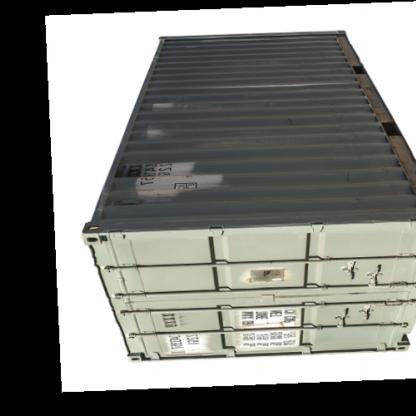Damage: (129, 153, 218, 203), (244, 260, 296, 296), (148, 93, 180, 118), (135, 123, 161, 143), (338, 170, 356, 187), (286, 112, 300, 132)
